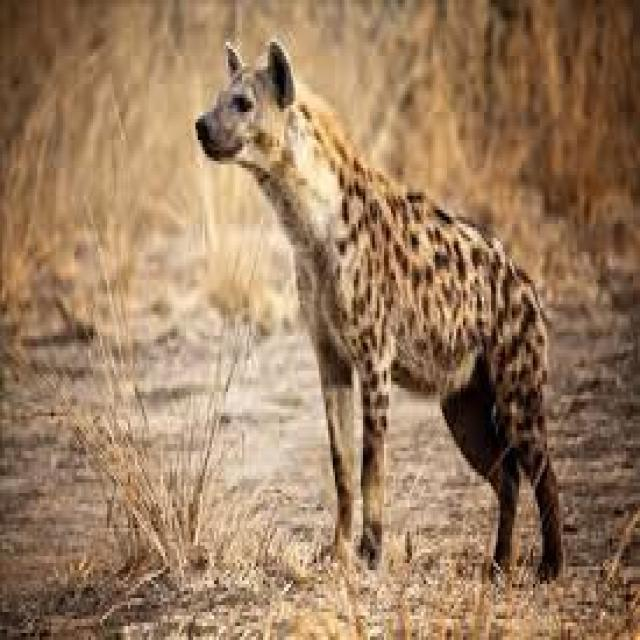Hyena: (194, 35, 562, 579)
